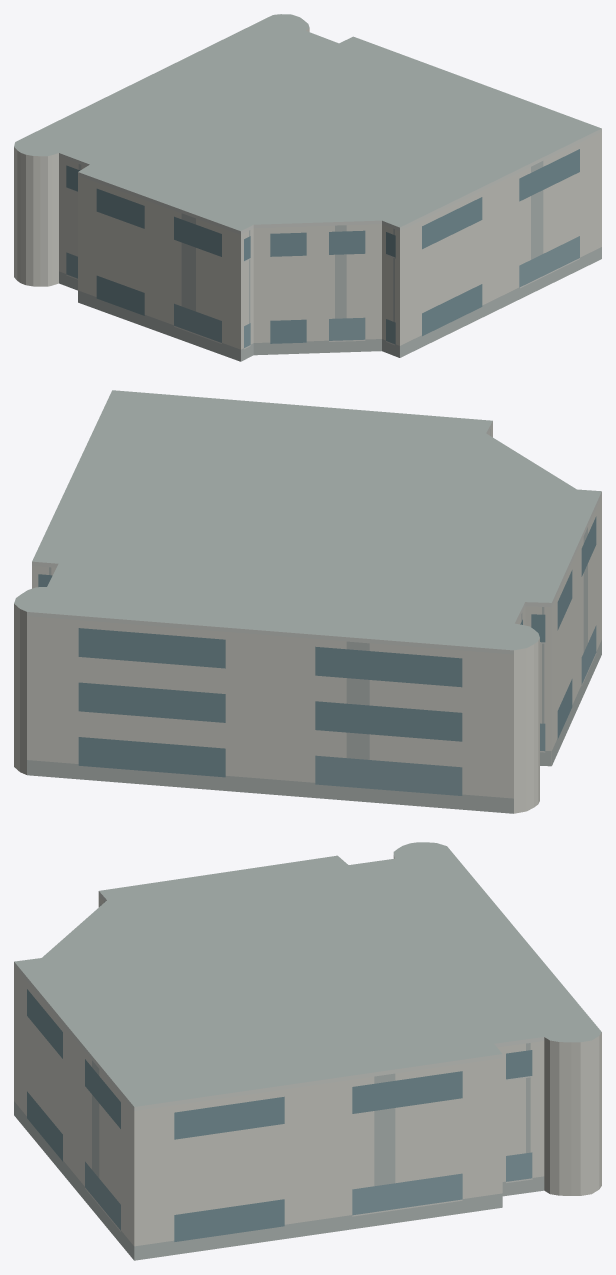
File: survey-upis-32650971.glb
3 renders of one model, top to bottom at view 1: azimuth 30°, elevation 25°; view 2: azimuth 150°, elevation 25°; view 3: azimuth 270°, elevation 25°, orthographic. The views are drawn at different scales.
Visible parts, largest first — view 1: survey-upis-32650971.tmp; view 2: survey-upis-32650971.tmp; view 3: survey-upis-32650971.tmp.
Part boxes in pixels (x1,y1,x2,y2): survey-upis-32650971.tmp: (14, 14, 601, 361); survey-upis-32650971.tmp: (14, 390, 601, 813); survey-upis-32650971.tmp: (14, 842, 601, 1260).
Size of the model in its own units: 33.81 by 9.15 by 31.73.
